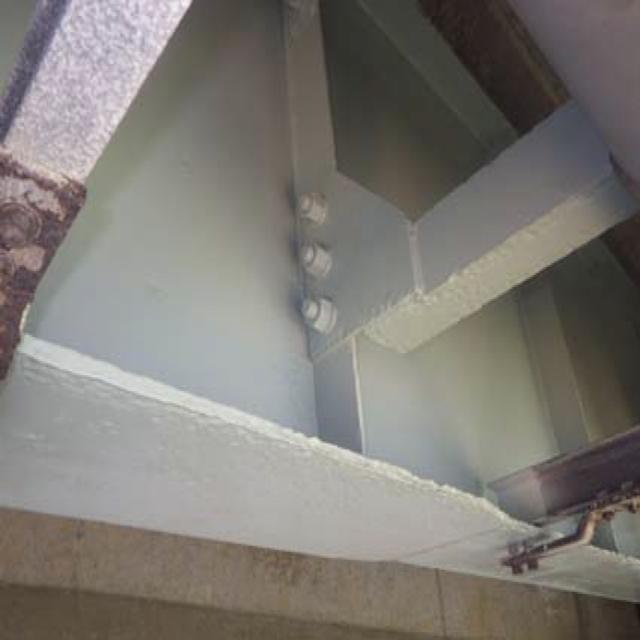corrosion: (3, 136, 97, 388)
